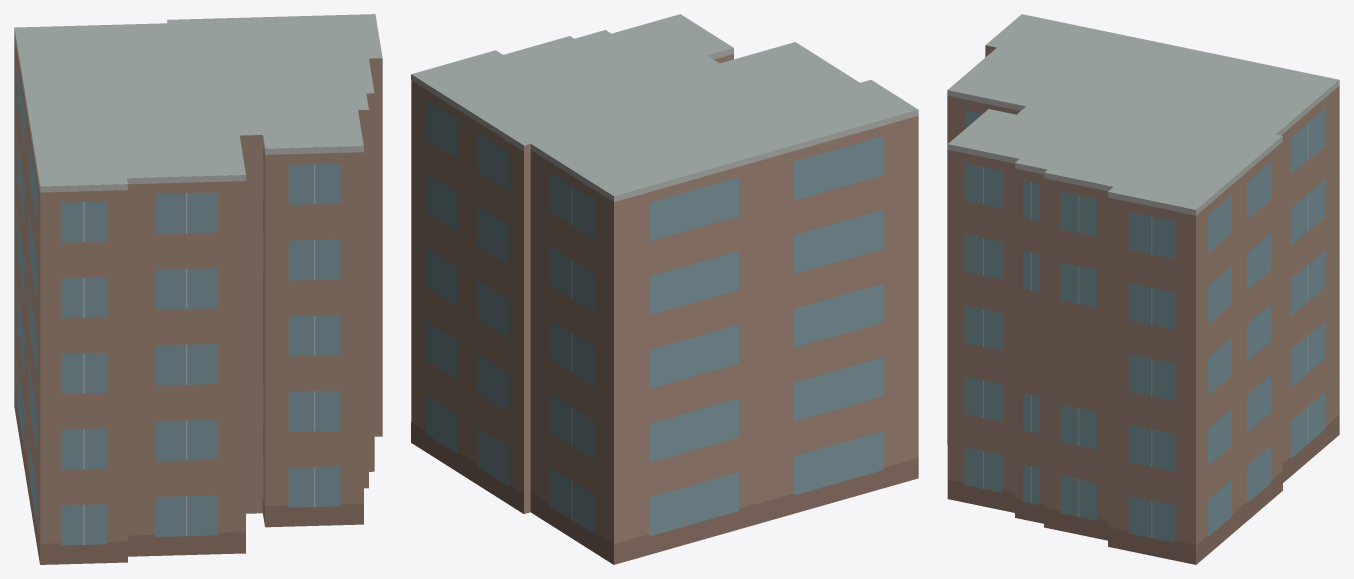
Rendered from survey-upis-33010666.glb.
3 renders of one model, left to right at view 1: azimuth 30°, elevation 25°; view 2: azimuth 150°, elevation 25°; view 3: azimuth 270°, elevation 25°, orthographic. The views are drawn at different scales.
Parts seen in each view (by area): view 1: survey-upis-33010666.tmp; view 2: survey-upis-33010666.tmp; view 3: survey-upis-33010666.tmp.
Boxes of the visible parts, box(x1,y1,x2,y2) form: survey-upis-33010666.tmp: box(14, 14, 382, 564); survey-upis-33010666.tmp: box(411, 14, 918, 564); survey-upis-33010666.tmp: box(947, 14, 1339, 564).
Size of the model in its own units: 18.01 by 15.2 by 15.23.
